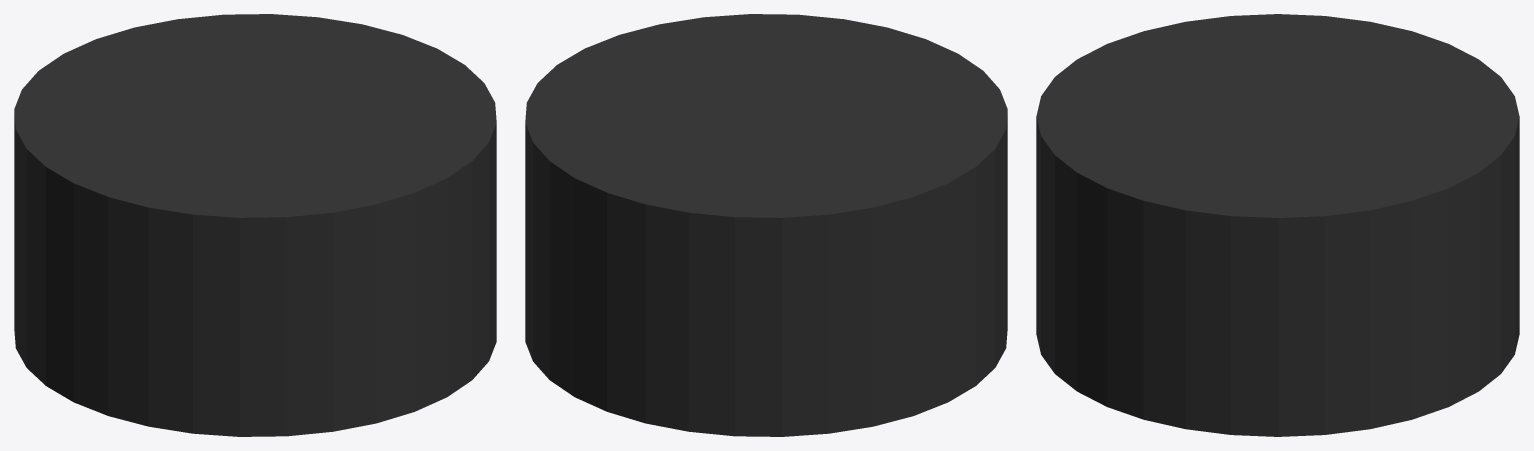
The model's file is testField.obj.
3 views of the same model, side by side, from view 1: azimuth 30°, elevation 25°; view 2: azimuth 150°, elevation 25°; view 3: azimuth 270°, elevation 25° (orthographic).
Visible parts, largest first — view 1: 円柱; view 2: 円柱; view 3: 円柱.
Part boxes in pixels (x1=…): 円柱: x1=14, y1=14, x2=496, y2=436; 円柱: x1=525, y1=14, x2=1007, y2=436; 円柱: x1=1036, y1=14, x2=1519, y2=436.
Bounding box in the file's own units: 2 × 1 × 2.
1 material, 1 textured.
